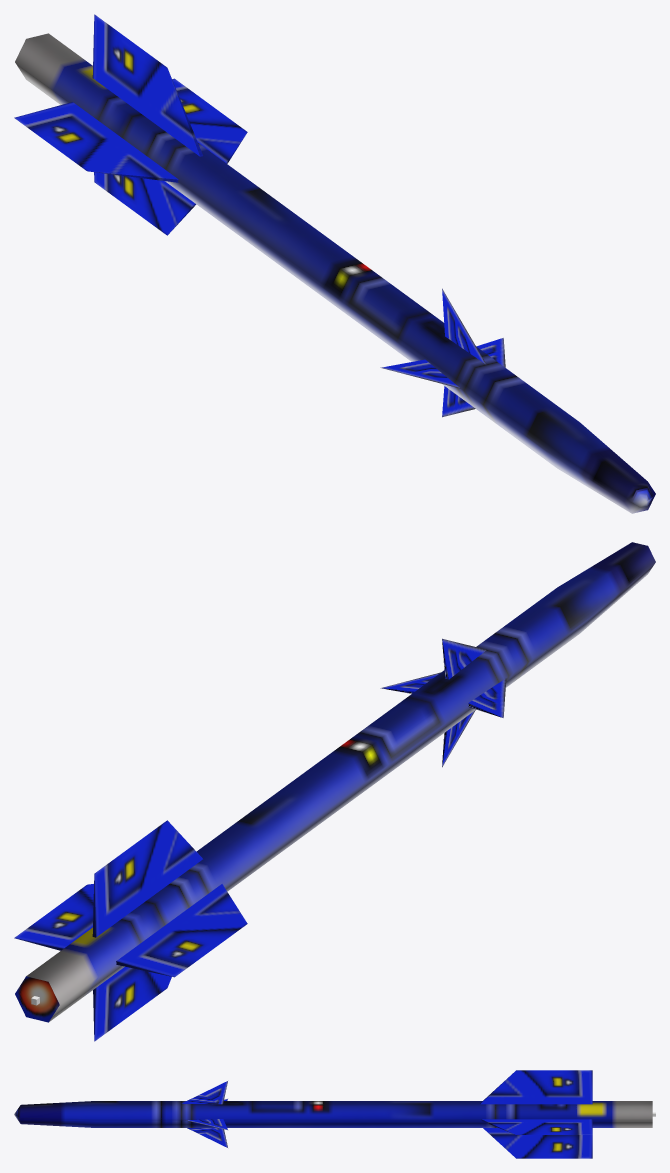
The model's file is mis11_static.obj.
3 views of the same model, one above another, from view 1: azimuth 30°, elevation 25°; view 2: azimuth 150°, elevation 25°; view 3: azimuth 270°, elevation 25° (orthographic). The views are drawn at different scales.
Visible parts, largest first — view 1: frm-body, frm-rear_fin5, frm-rear_fin6, frm-rear_fin7, frm-rear_fin5_1, frm-frontfin4, frm-frontfin5; view 2: frm-body, frm-rear_fin5, frm-rear_fin6, frm-rear_fin7, frm-rear_fin5_1, frm-frontfin4, frm-frontfin5; view 3: frm-body, frm-rear_fin5, frm-rear_fin7, frm-rear_fin5_1, frm-frontfin4, frm-frontfin7, frm-frontfin4_1.
Part boxes in pixels (<box>): frm-body: <box>15,33,655,513</box>; frm-rear_fin5: <box>92,14,202,156</box>; frm-rear_fin6: <box>14,102,178,182</box>; frm-rear_fin7: <box>94,172,196,235</box>; frm-rear_fin5_1: <box>172,78,247,163</box>; frm-frontfin4: <box>442,288,486,364</box>; frm-frontfin5: <box>380,359,460,388</box>; frm-body: <box>15,542,655,1022</box>; frm-rear_fin5: <box>92,820,202,937</box>; frm-rear_fin6: <box>116,884,247,977</box>; frm-rear_fin7: <box>93,966,171,1041</box>; frm-rear_fin5_1: <box>14,884,93,950</box>; frm-frontfin4: <box>442,638,486,679</box>; frm-frontfin5: <box>468,678,506,717</box>; frm-body: <box>14,1101,652,1127</box>; frm-rear_fin5: <box>480,1070,592,1104</box>; frm-rear_fin7: <box>483,1128,592,1158</box>; frm-rear_fin5_1: <box>481,1119,592,1134</box>; frm-frontfin4: <box>182,1081,227,1104</box>; frm-frontfin7: <box>187,1128,227,1147</box>; frm-frontfin4_1: <box>185,1119,227,1129</box>.
Bounding box in the file's own units: 1.73 × 1.73 × 11.41.
